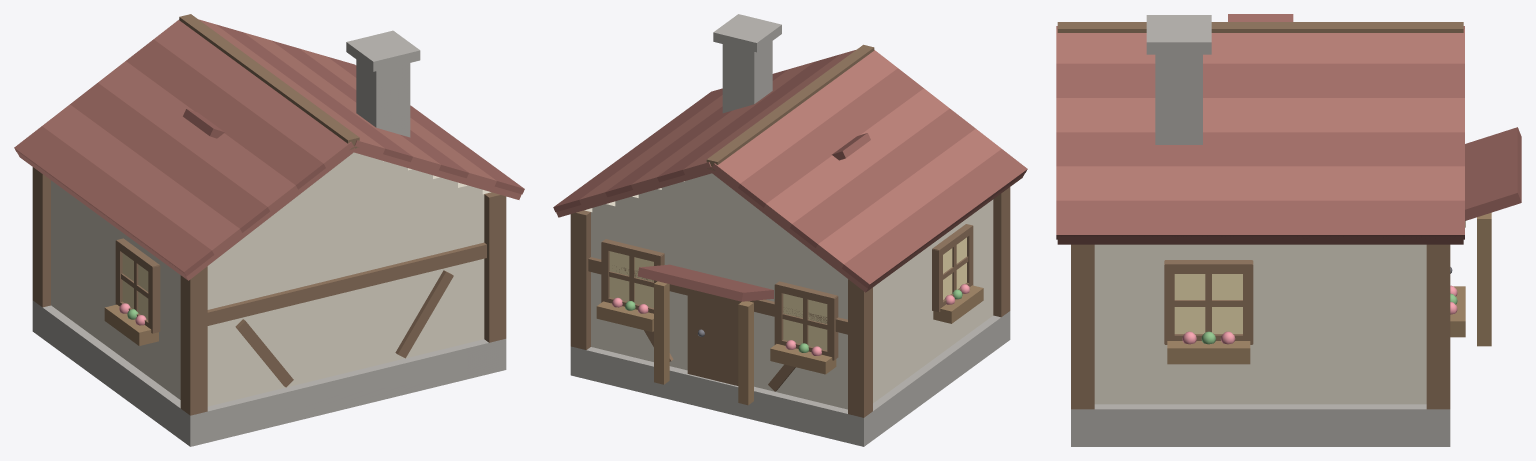
Rendered from cottage.fbx.
3 renders of one model, left to right at view 1: azimuth 30°, elevation 25°; view 2: azimuth 150°, elevation 25°; view 3: azimuth 270°, elevation 25°, orthographic. The views are drawn at different scales.
Parts seen in each view (by area): view 1: Cottage; view 2: Cottage; view 3: Cottage.
Boxes of the visible parts, x1,y1,x2,y2 form: Cottage: (14,14,524,446); Cottage: (553,14,1027,446); Cottage: (1056,14,1521,446).
Bounding box in the file's own units: 6.39 × 5.55 × 6.29.
